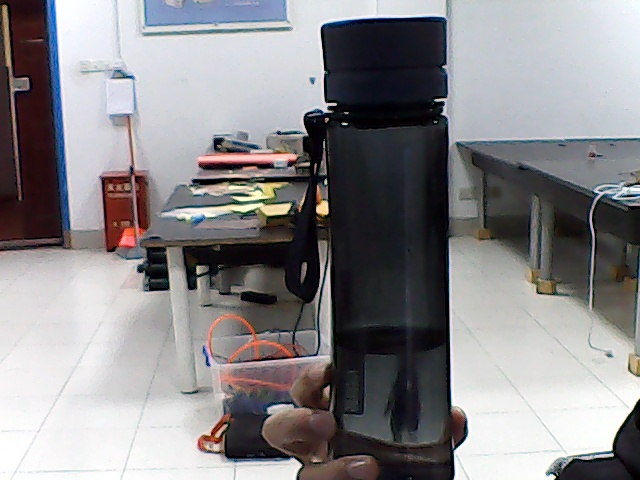cup: (336, 36, 442, 450)
